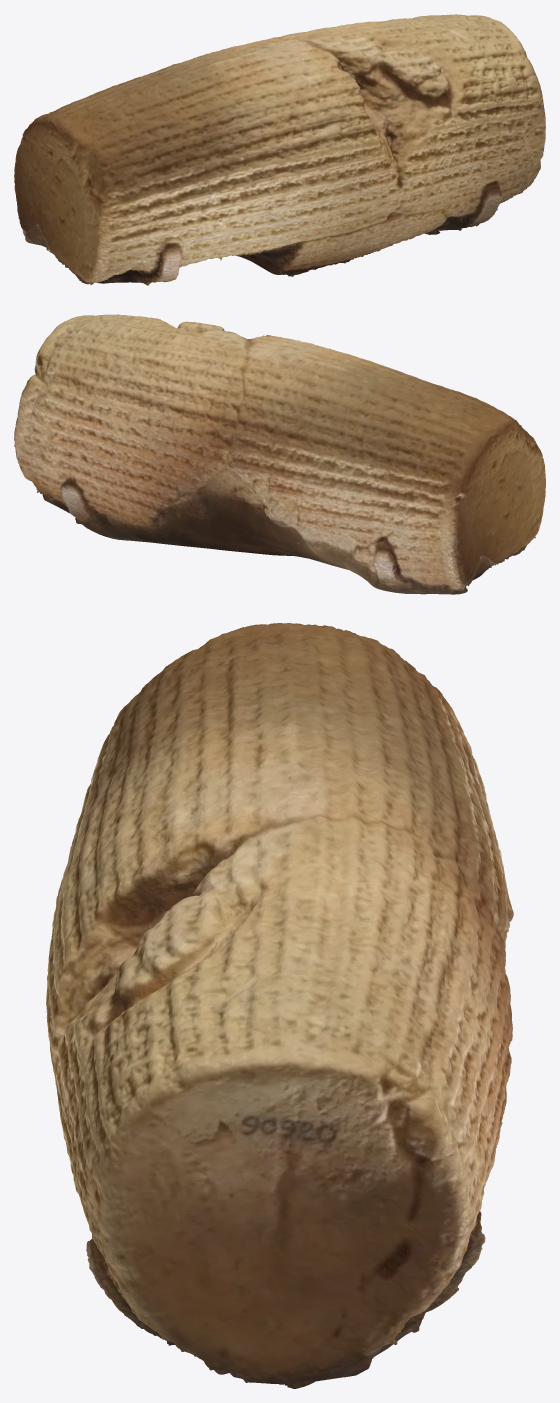
File: preview.glb
3 views of the same model, one above another, from view 1: azimuth 30°, elevation 25°; view 2: azimuth 150°, elevation 25°; view 3: azimuth 270°, elevation 25° (orthographic). The views are drawn at different scales.
Parts seen in each view (by area): view 1: Object_2; view 2: Object_2; view 3: Object_2.
Boxes of the visible parts, left/top/right/bottom form: Object_2: left=14, top=14, right=545, bottom=285; Object_2: left=14, top=314, right=545, bottom=594; Object_2: left=46, top=623, right=513, bottom=1388.
Size of the model in its own units: 4.2 by 1.99 by 1.9.
1 material, 1 textured.
